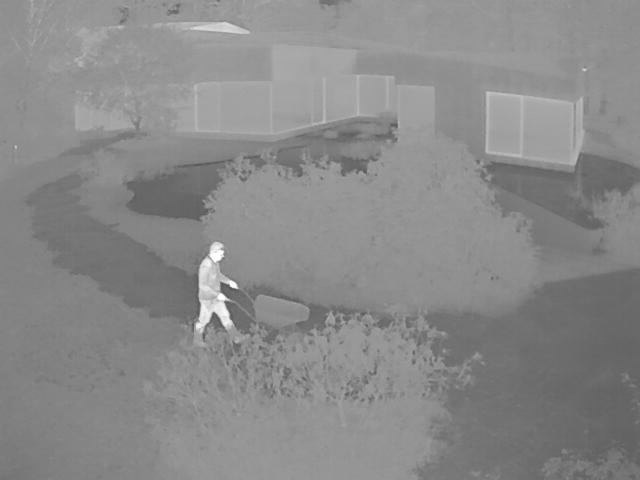person: (194, 241, 243, 349)
